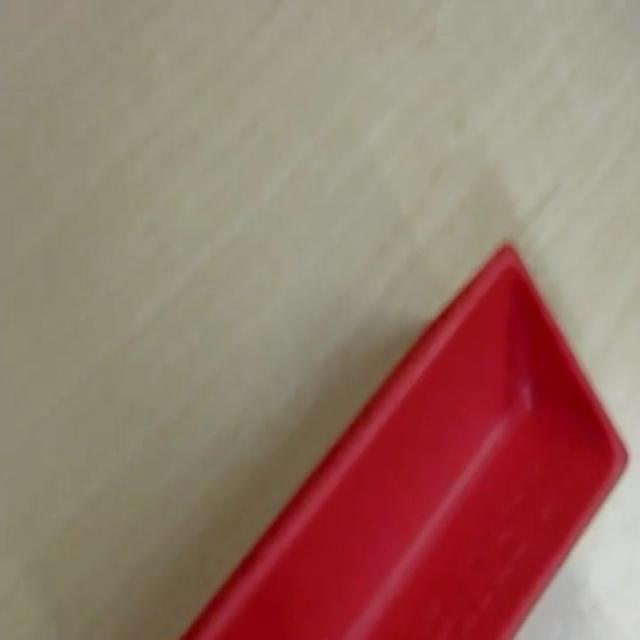red_block: (178, 239, 630, 637)
